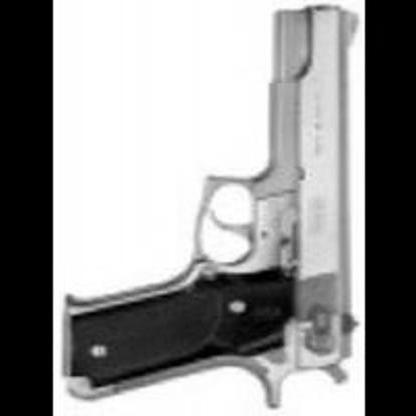weapon: (57, 2, 364, 410)
